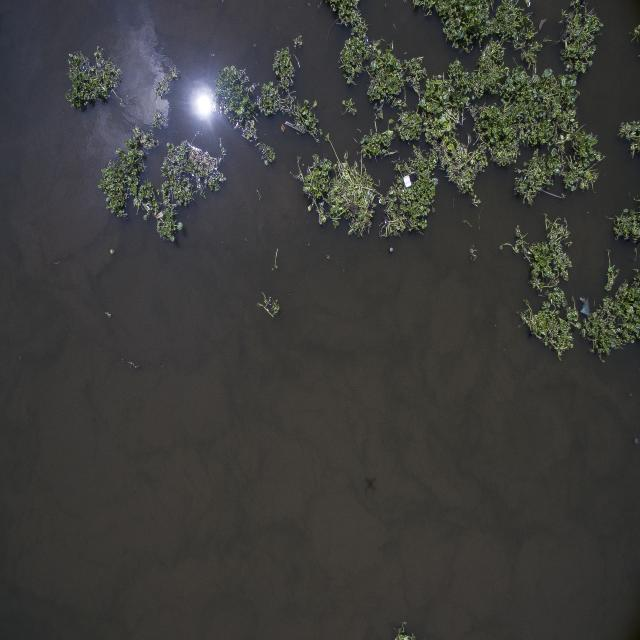plastic: (579, 276, 600, 333), (401, 170, 416, 195)
